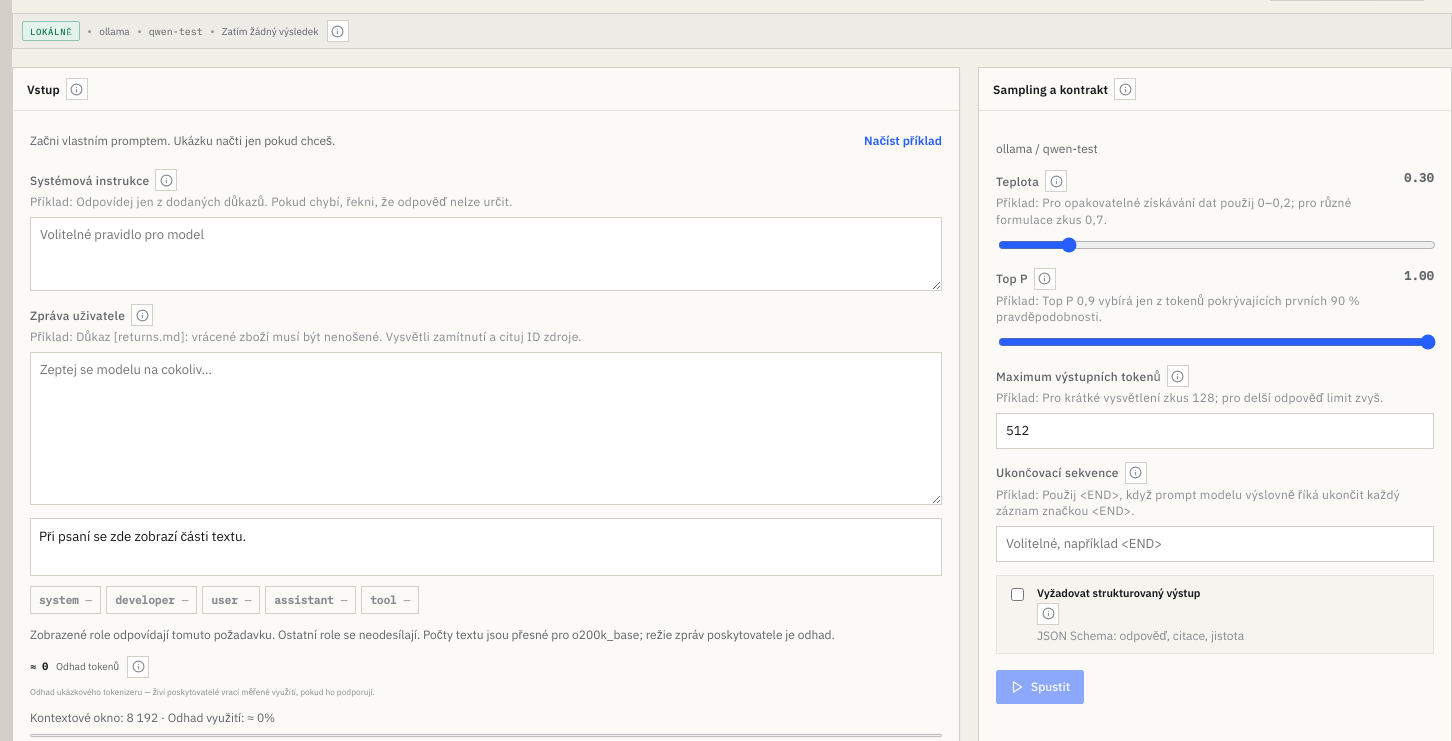
Test: PromptTokensPage › uses an installed model and sends all visible generation controls
Check: the text "ollama / qwen-test" is shown, box [996,141,1098,156]
Type "Co je kontextové okno?" into the text box with placeholder "Zeptej se modelu na cokoliv…".
click(486, 428); type("Co je kontextové okno?")  # box [30,352,942,505]
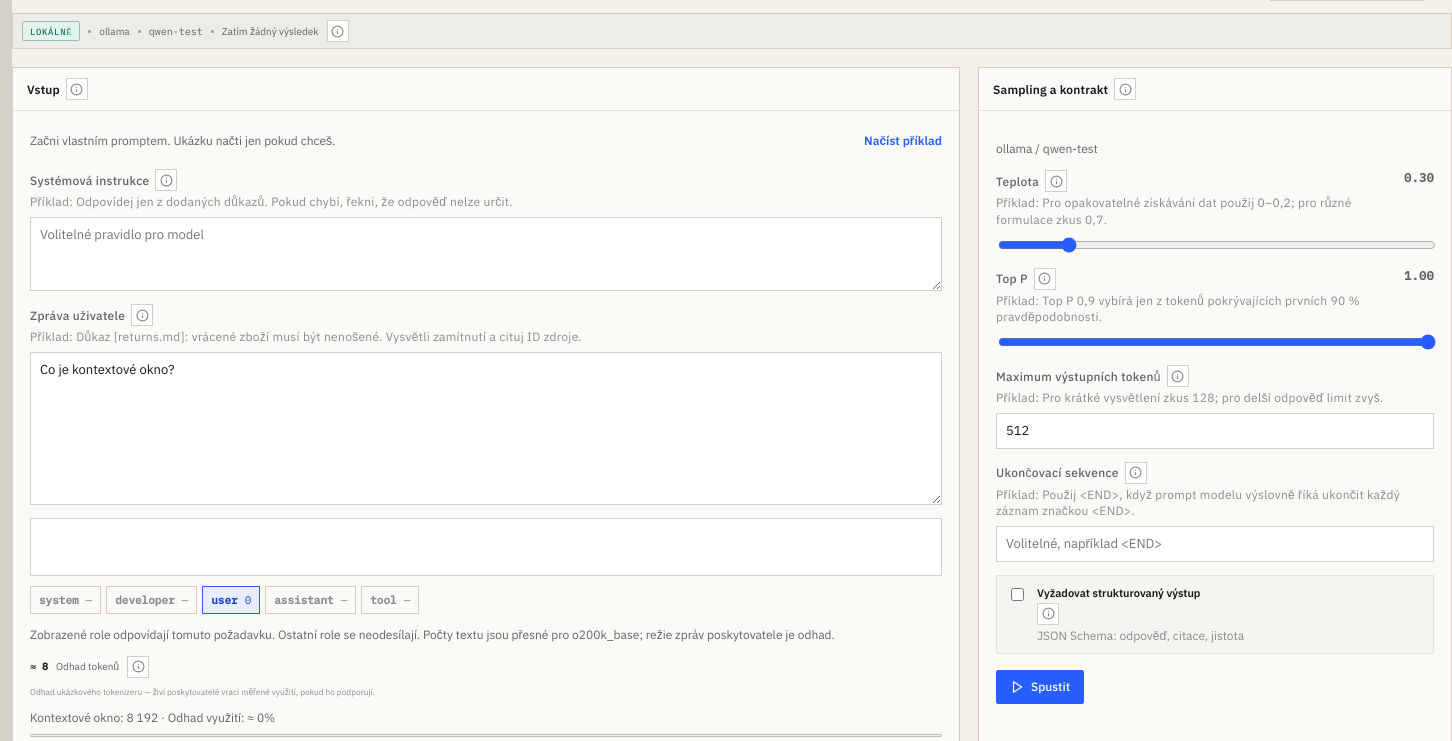
Set the slider labelled "Teplota" to "0.7" at (1154, 245), box [998,237,1436,253]
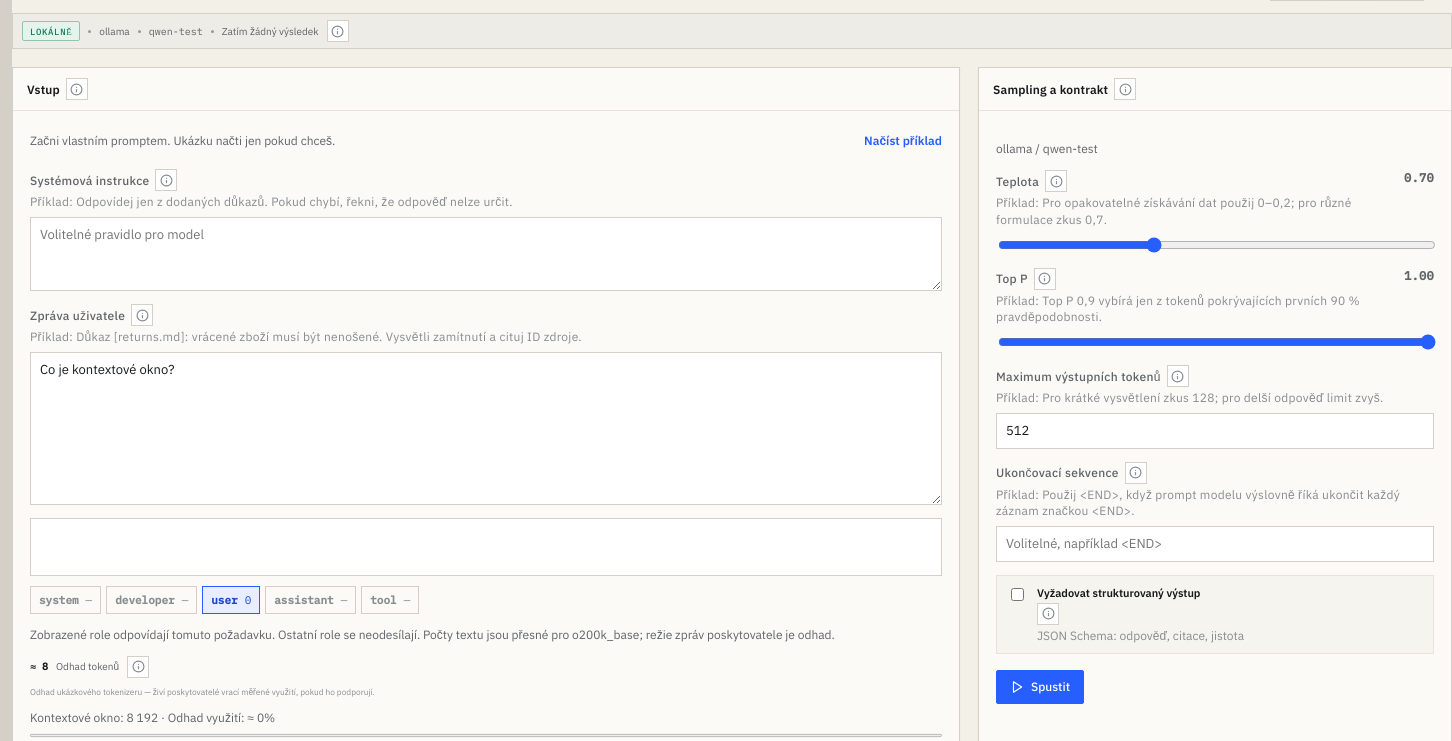
Replace the text in the number field labelled "Maximum výstupních tokenů" with "256" at (1215, 431), box [996,413,1434,448]
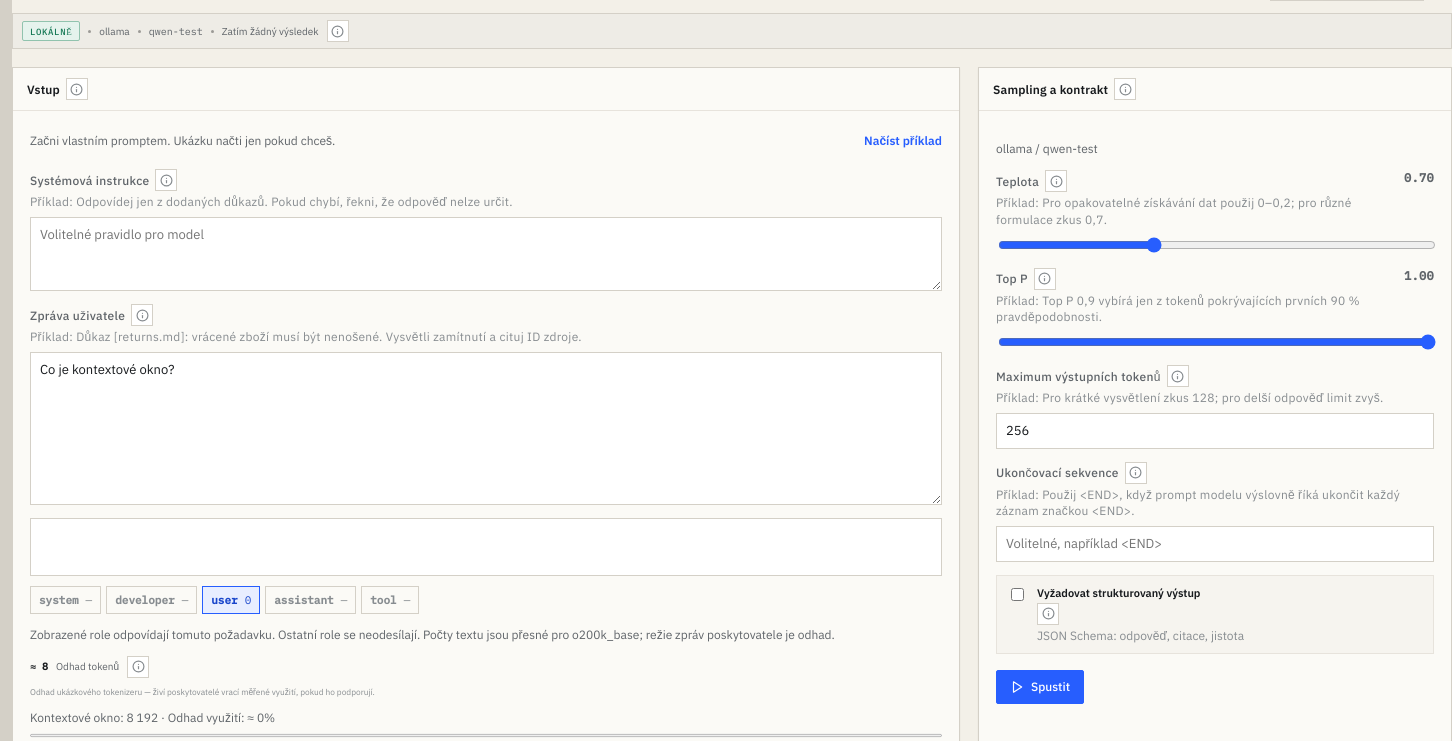
Type "<END>" into the field with placeholder "Volitelné, například <END>".
click(1215, 544); type("<END>")  # box [996,526,1434,562]
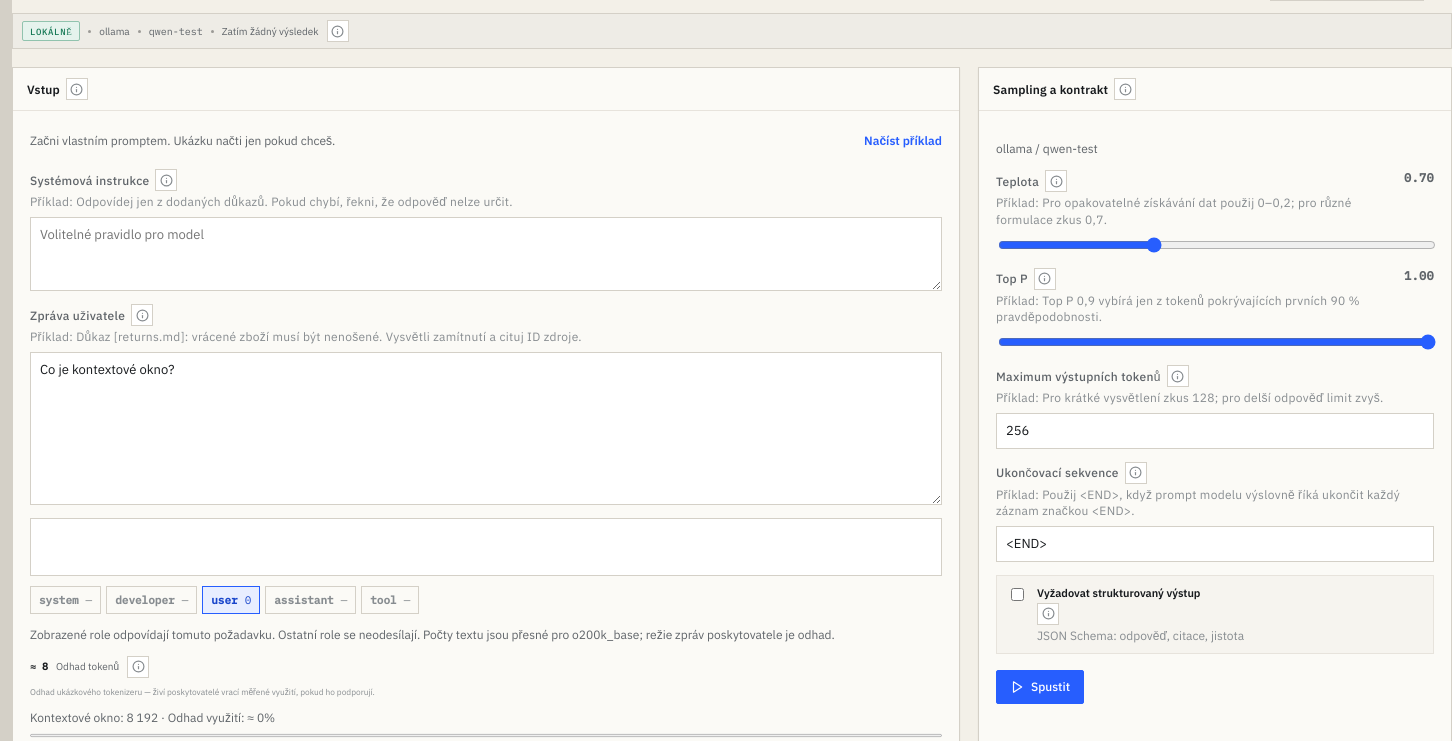
Click the button "Spustit".
click(1040, 687)  # box [996,670,1084,704]
(page scrolled)
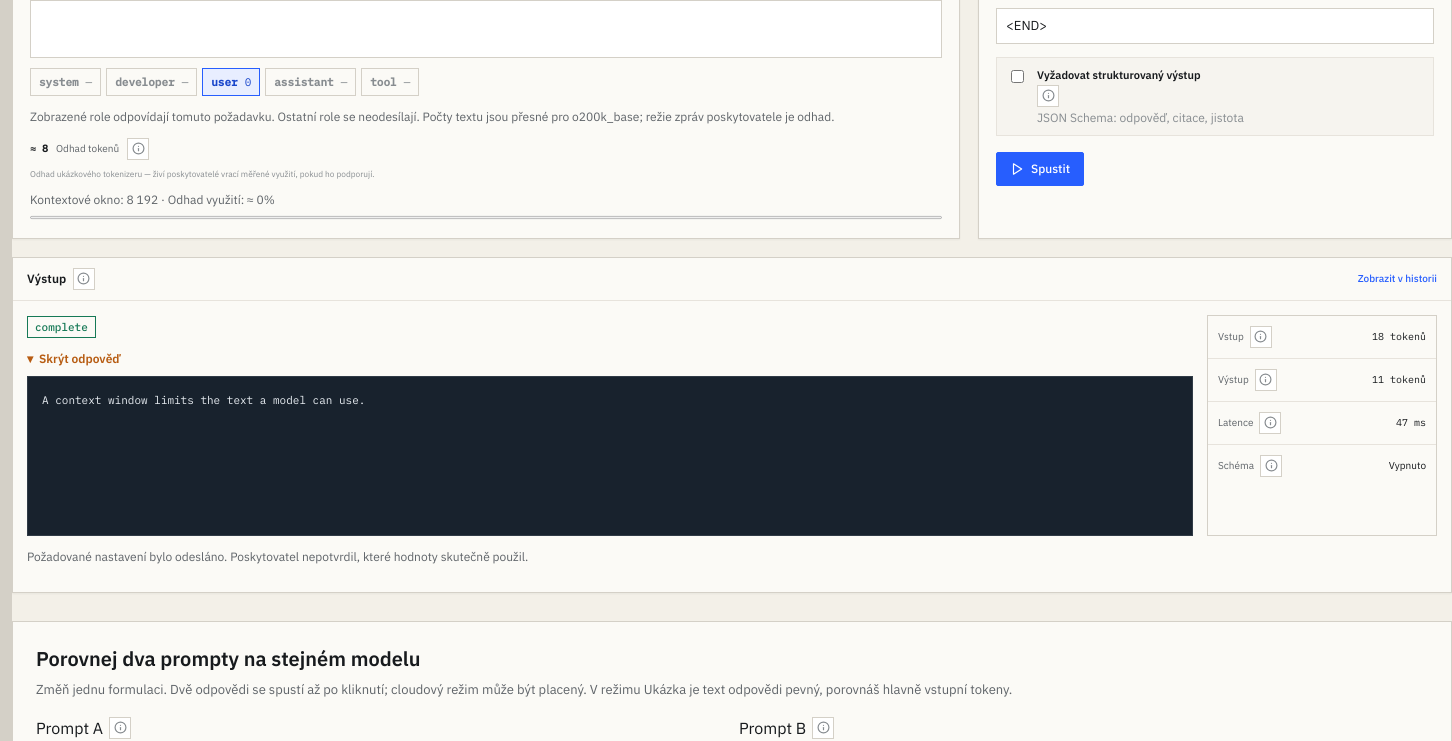
Check: the text "A context window limits the text a model can use." is shown, box [27,376,1193,536]
Check: the text "18 tokenů" is shown, box [1372,330,1426,343]
